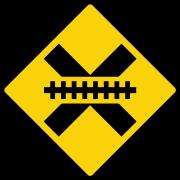Barrier Ahead: (12, 14, 166, 166)
